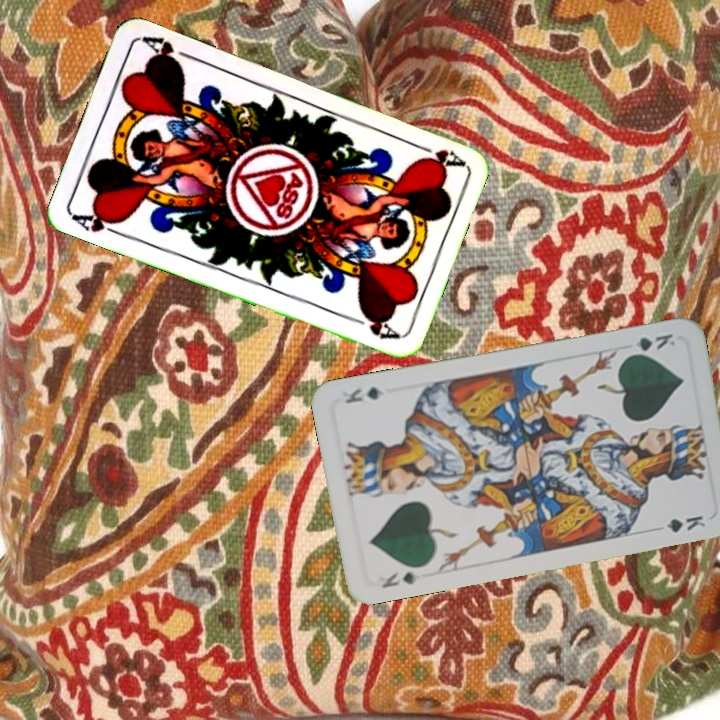GK: (622, 329, 678, 359), (378, 567, 419, 591)
HA: (69, 206, 127, 240), (408, 138, 466, 171)
